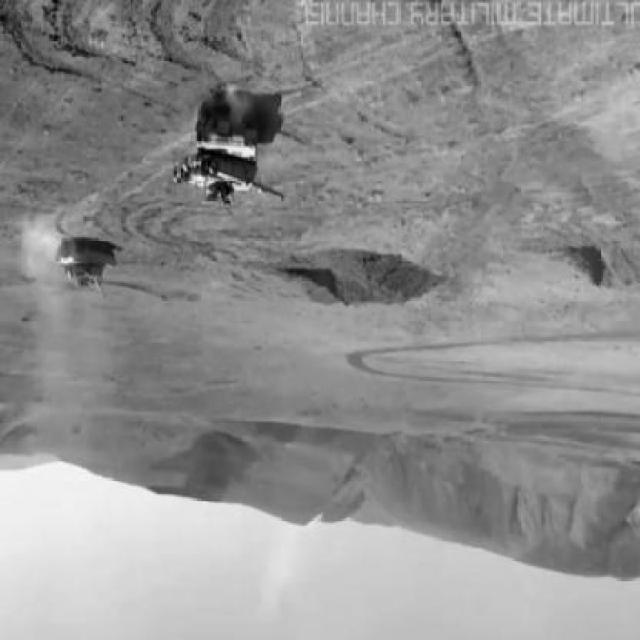Vehicle: (193, 107, 266, 207), (53, 243, 121, 289)
